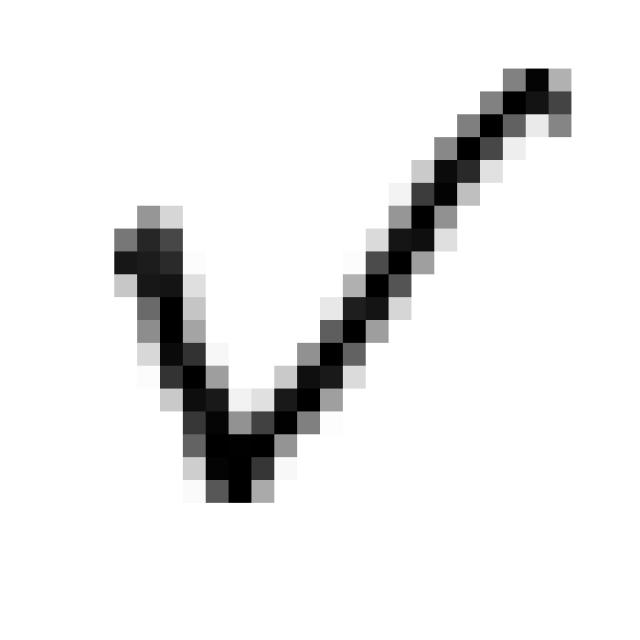7 -seven-: (96, 50, 593, 516)
